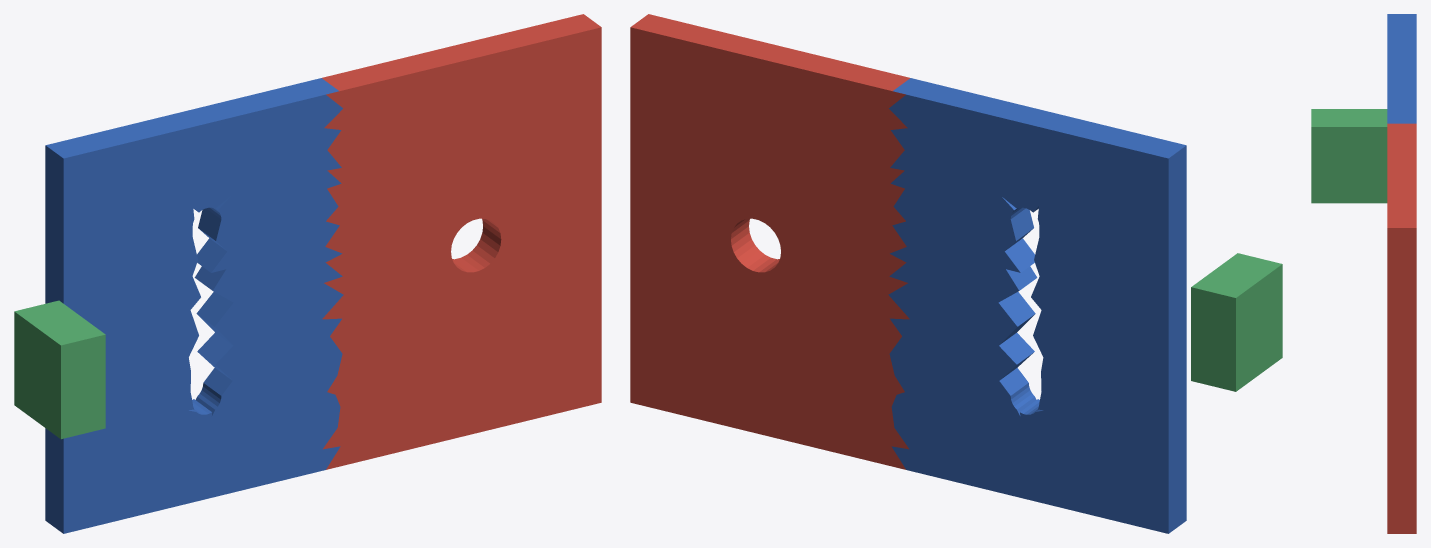
3 renders of one model, left to right at view 1: azimuth 30°, elevation 25°; view 2: azimuth 150°, elevation 25°; view 3: azimuth 270°, elevation 25°, orthographic. The views are drawn at different scales.
Visible parts, largest first — view 1: plate, bracket; view 2: plate, bracket; view 3: plate, bracket.
Part boxes in pixels (left/top/right/bottom): plate: left=45, top=14, right=601, bottom=533; bracket: left=14, top=300, right=105, bottom=439; plate: left=630, top=14, right=1186, bottom=533; bracket: left=1191, top=253, right=1282, bottom=391; plate: left=1387, top=14, right=1416, bottom=533; bracket: left=1311, top=109, right=1387, bottom=203.
Size of the model in its own units: 6.55 by 4 by 1.25.
